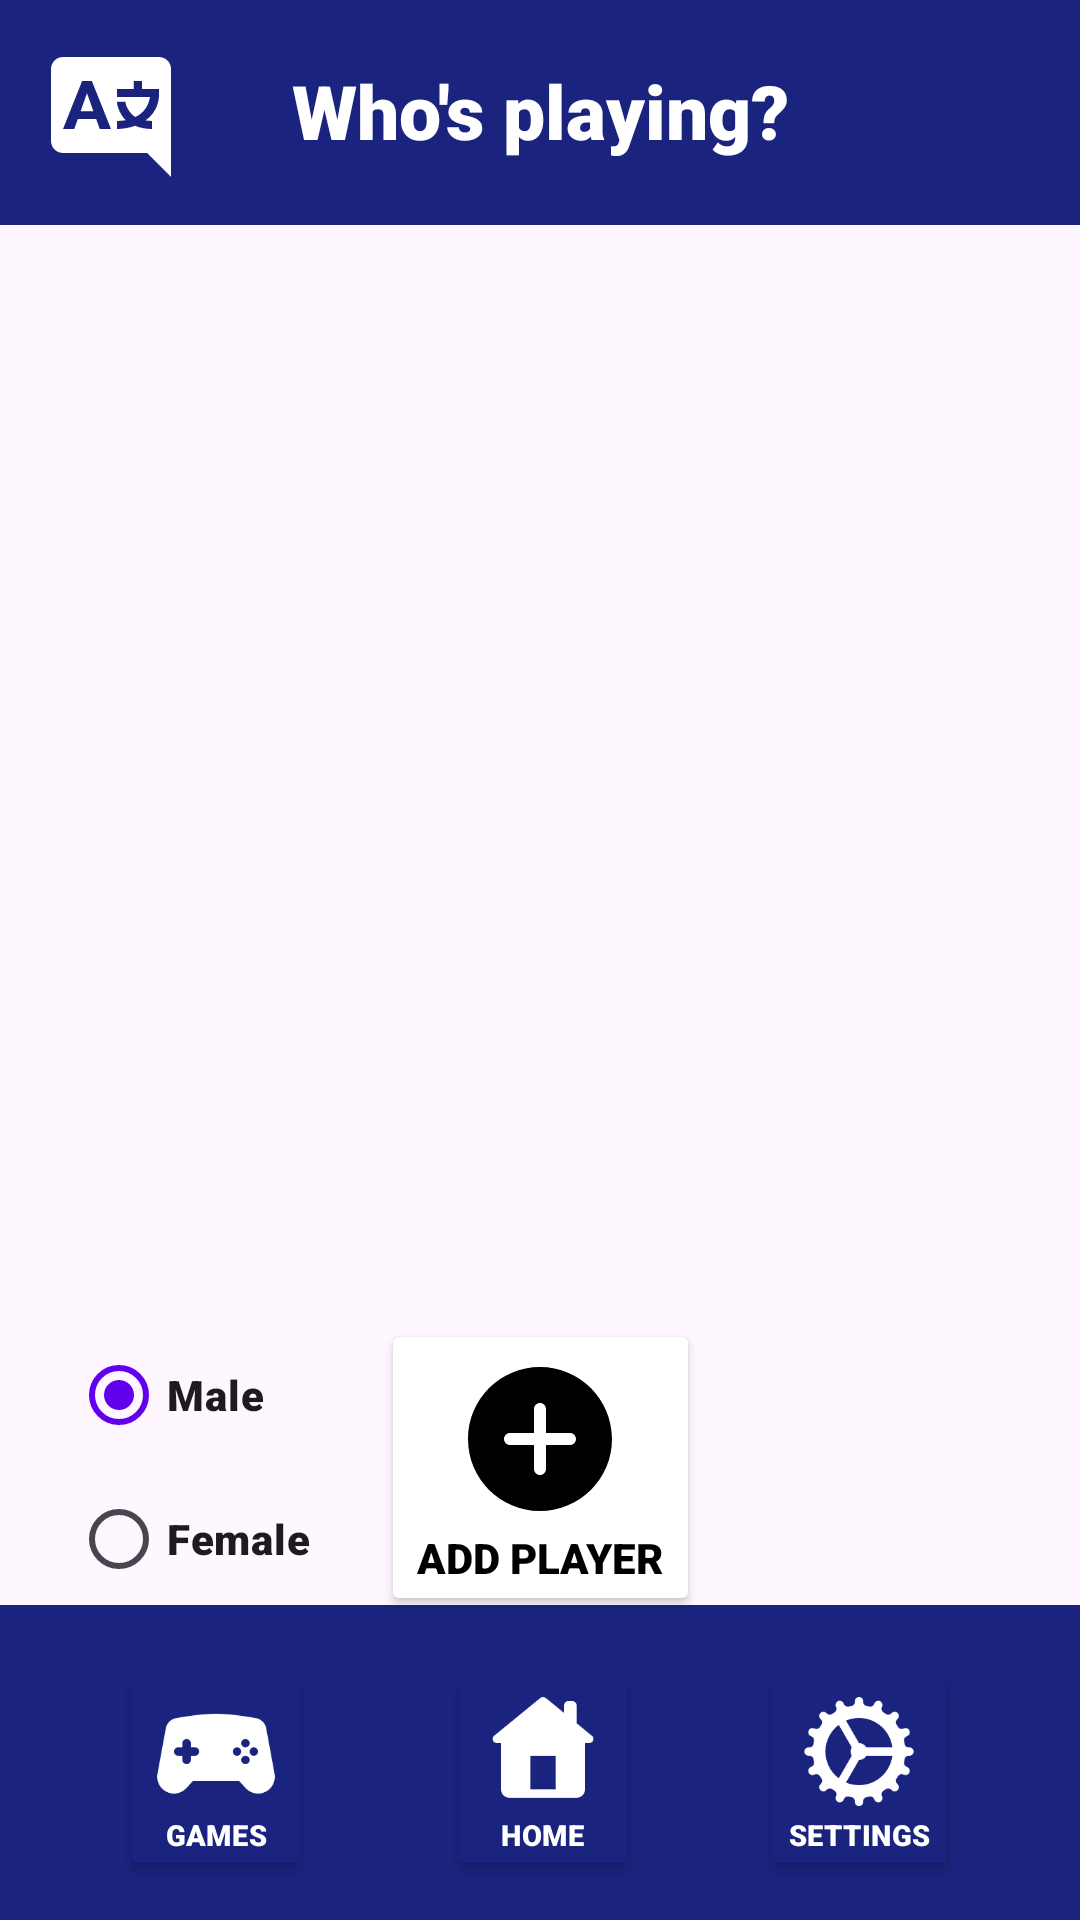

Screen size 1080px x 1920px. Icon name, then its box in pixels as (x1, y1, x2, y2):
language translation: (51, 57, 171, 177)
